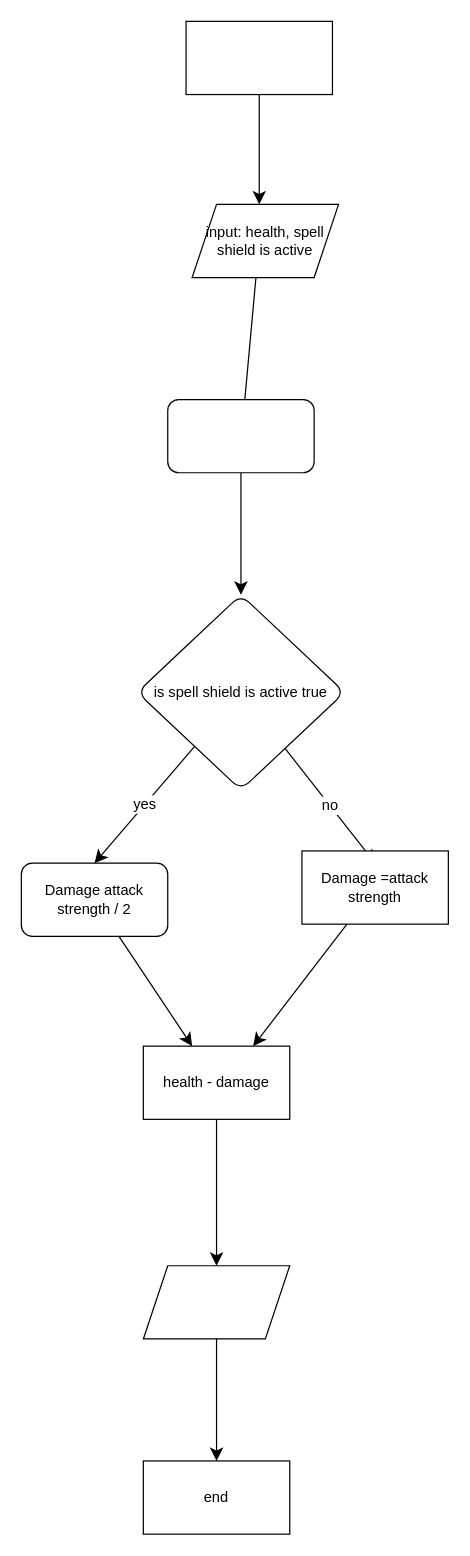
Image size: 470x1556. Some labels were removed from this diagram. Each missing label, with the box of its shape:
generate random attack strength from 1 to 10: (167, 398, 314, 473)
Output Update health: (142, 1265, 290, 1339)
START: (185, 20, 332, 95)
